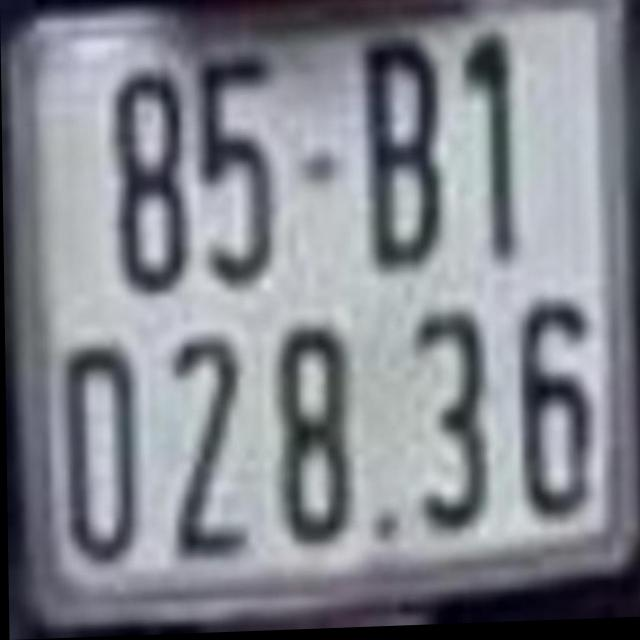0: (65, 339, 133, 569)
1: (461, 30, 515, 259)
2: (172, 324, 249, 563)
3: (411, 304, 487, 530)
5: (196, 56, 275, 286)
6: (515, 299, 596, 518)
8: (115, 69, 187, 293), (281, 323, 349, 546)
B: (366, 36, 449, 262)
